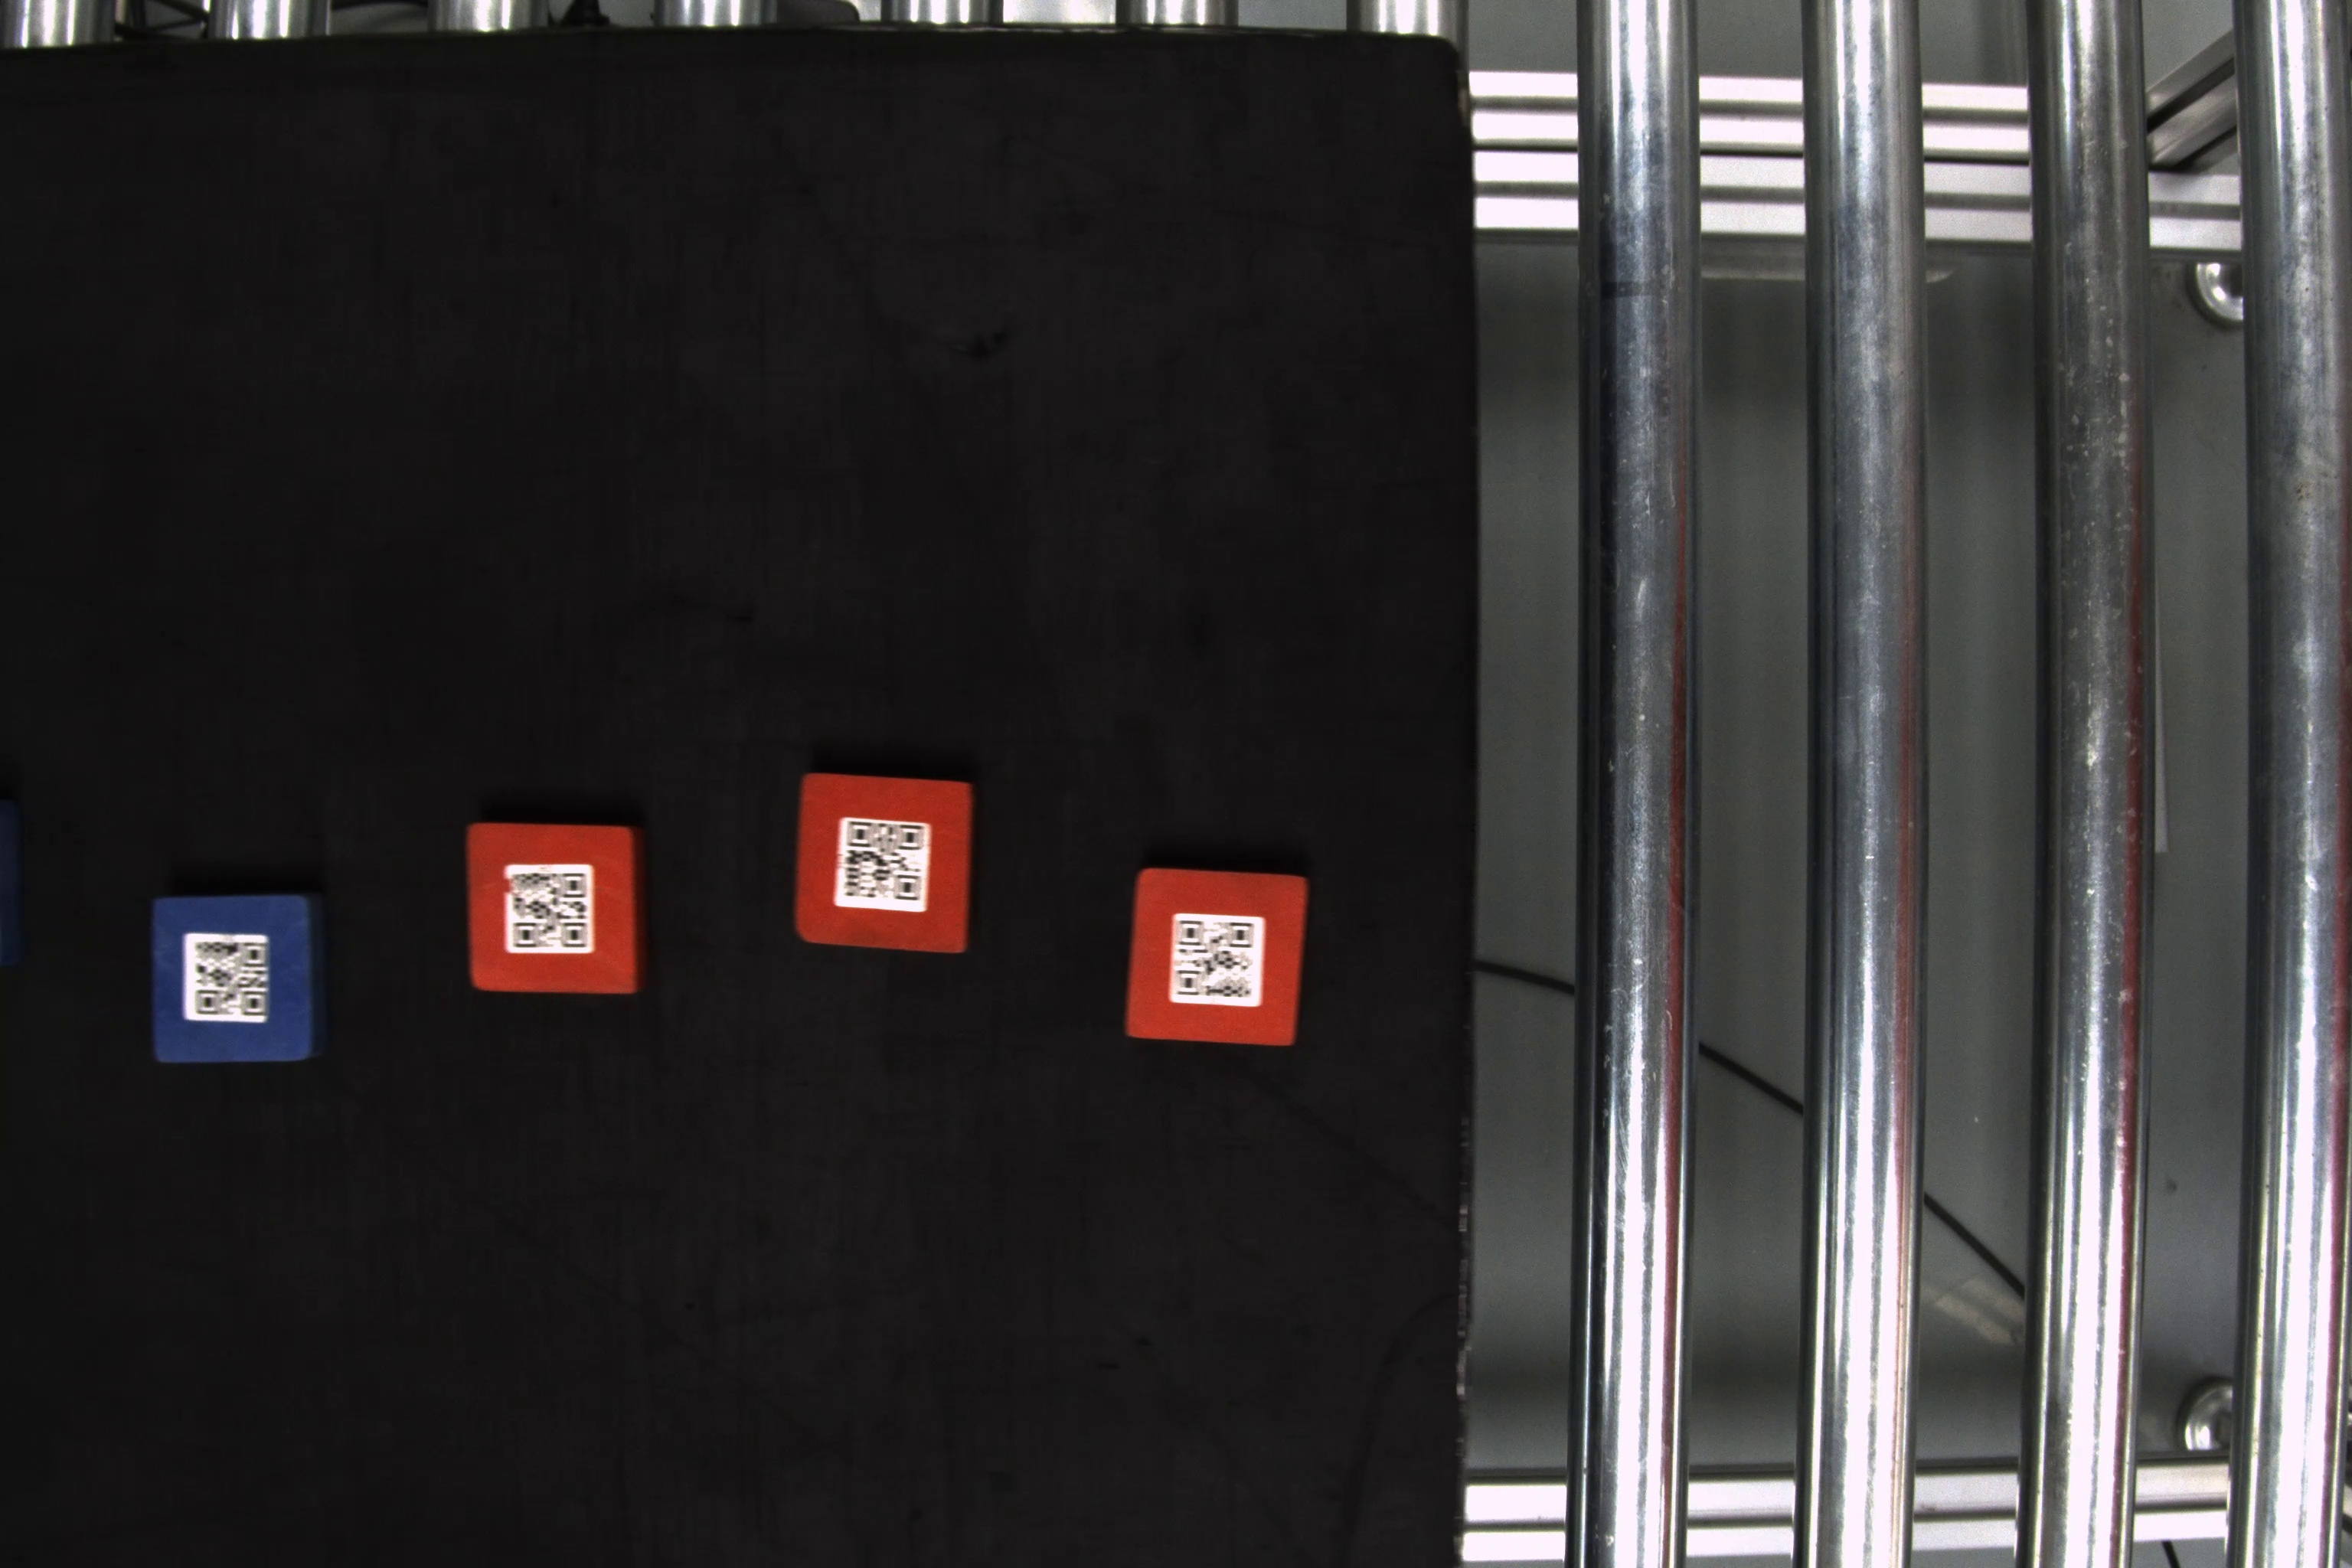wood: (1122, 859, 1318, 1046), (789, 768, 980, 957), (464, 817, 651, 1004), (147, 894, 331, 1069)
